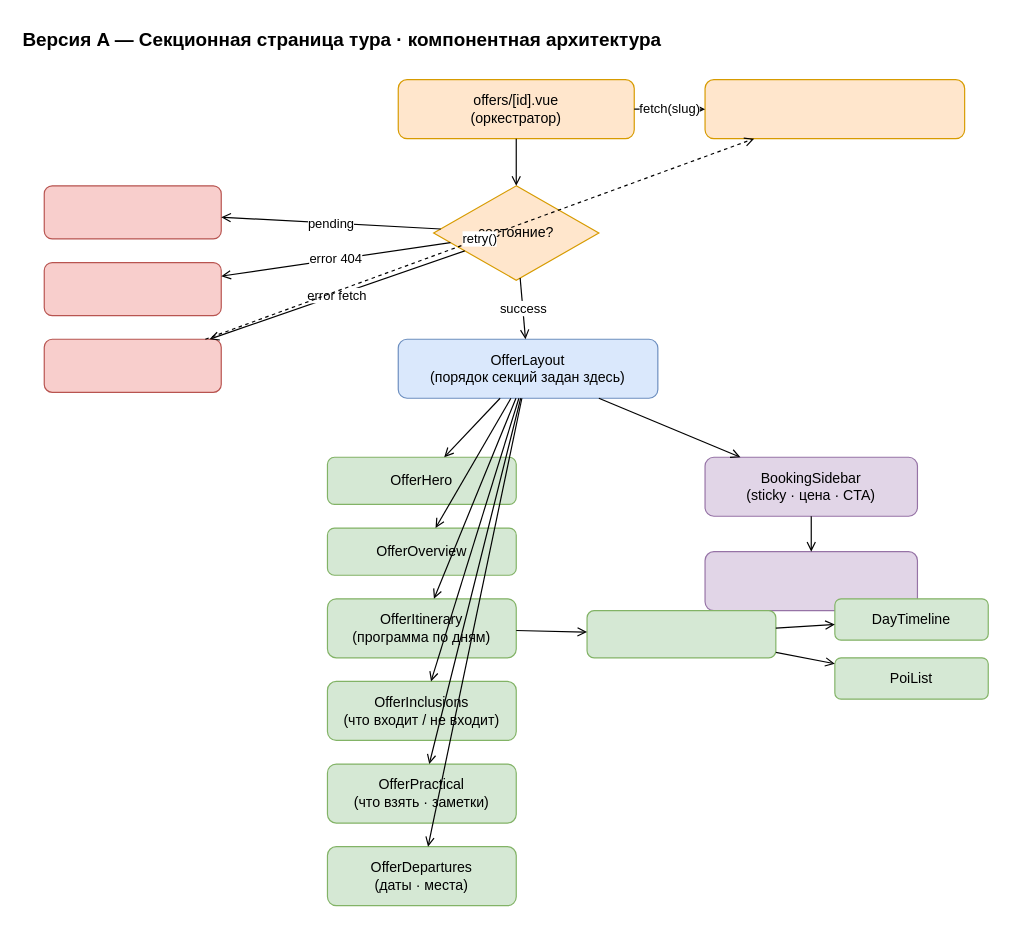
This 1009x926 diagram has some shape labels left out. The shapes that lost their labels are listed below. From the top down, each one's centre as x and y in pixels, then its label:
point (834, 108): useOfferDetail(slug) data · pending · error · retry
point (132, 212): OfferSkeleton
point (132, 288): OfferNotFound
point (132, 365): OfferError + retry
point (810, 580): BookingModal (существующий)
point (681, 633): ItineraryDayCard × N
